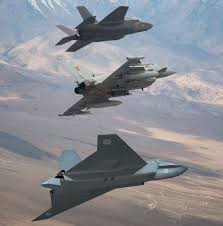fighter: (30, 132, 191, 222), (55, 52, 181, 120), (54, 2, 157, 55)
